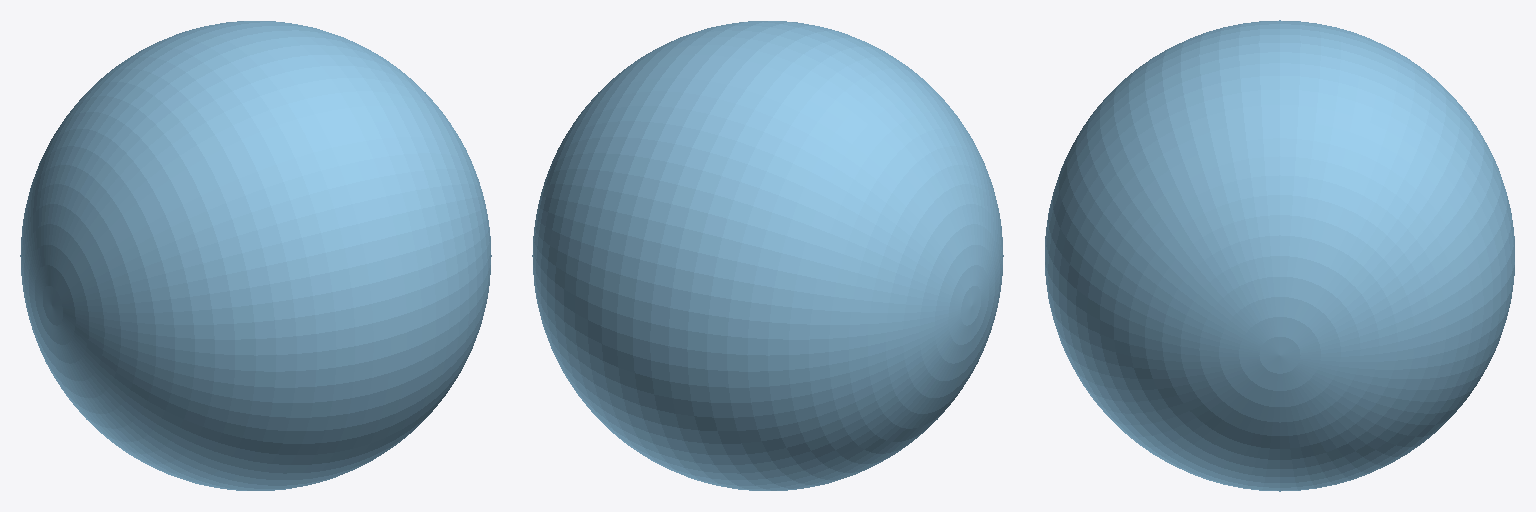
robot.urdf — cup_manipulator:
<?xml version="1.0" ?>
<!-- Generated using onshape-to-robot -->
<!-- Onshape https://cad.onshape.com/documents/02830e503a1c2626d58e0780/w/62db7934caa01effe231f1a9/e/2f07e2341881a1974b8a1063 -->
<robot name="cup_manipulator">
  <!-- Link part_1 -->
  <link name="part_1">
    <inertial>
      <origin xyz="0 0 0" rpy="0 0 0"/>
      <mass value="1e-09"/>
      <inertia ixx="1e-09" ixy="0" ixz="0" iyy="1e-09" iyz="0" izz="1e-09"/>
    </inertial>
    <!-- Part part_1 -->
    <visual>
      <origin xyz="0.0184262 -0.055912 -0.0998256" rpy="0 -0 0"/>
      <geometry>
        <mesh filename="package://assets/part_1.stl"/>
      </geometry>
      <material name="part_1_material">
        <color rgba="0.615686 0.811765 0.929412 1"/>
      </material>
    </visual>
    <collision>
      <origin xyz="0.0184262 -0.055912 -0.0998256" rpy="0 -0 0"/>
      <geometry>
        <mesh filename="package://assets/part_1.stl"/>
      </geometry>
    </collision>
  </link>
</robot>

--- Render facts (derived) ---
3 views of the same robot in one strip: view 1: azimuth 30°, elevation 25°; view 2: azimuth 150°, elevation 25°; view 3: azimuth 270°, elevation 25° (orthographic).
Robot: cup_manipulator — 1 links, 0 joints (none); root link part_1; default pose: every joint at zero.
Visible links, largest first — view 1: part_1; view 2: part_1; view 3: part_1.
Boxes of the visible links, box(x1,y1,x2,y2) form: part_1: box(20, 21, 491, 490); part_1: box(532, 21, 1003, 490); part_1: box(1045, 20, 1514, 491).
Size in the robot's own frame: 0.1 by 0.1 by 0.1 metres.
1 mesh visuals loaded from 1 distinct referenced files (1 binary STL).
